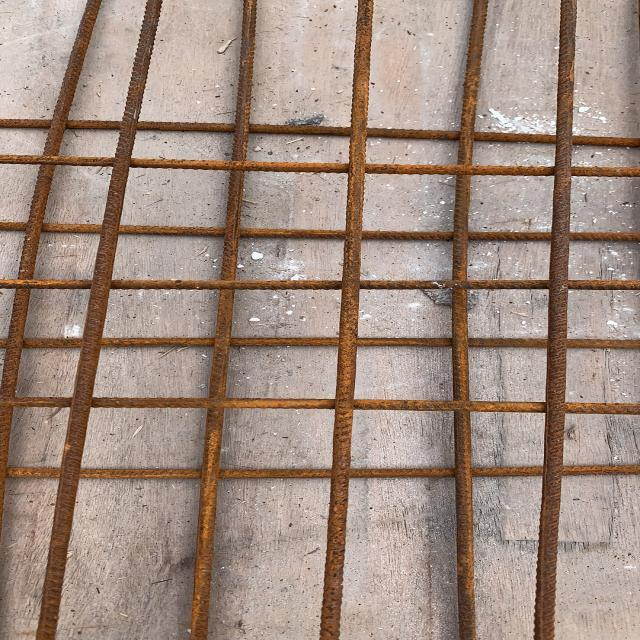ribbed bar: (25, 0, 164, 639), (183, 0, 261, 639), (0, 0, 104, 477), (318, 0, 377, 639), (530, 0, 581, 639), (449, 0, 490, 639), (0, 113, 639, 149), (0, 153, 639, 179), (0, 220, 639, 243), (0, 394, 639, 415), (0, 335, 639, 351), (5, 462, 639, 478), (0, 278, 639, 291)
